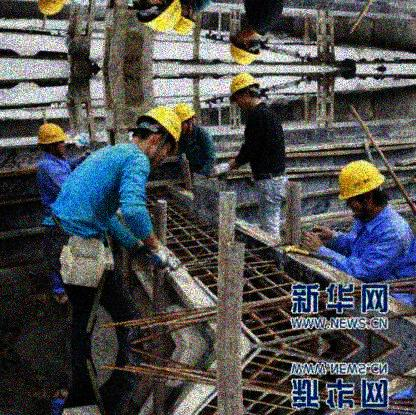helmet: (133, 107, 182, 173), (336, 158, 385, 221), (230, 25, 261, 66), (228, 73, 261, 111), (35, 123, 67, 158), (174, 4, 199, 37), (176, 104, 196, 138)
